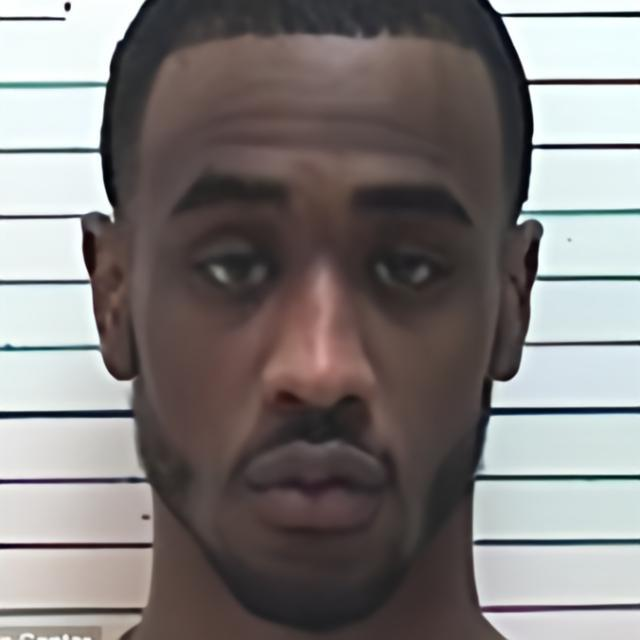sad: (127, 37, 503, 631)
